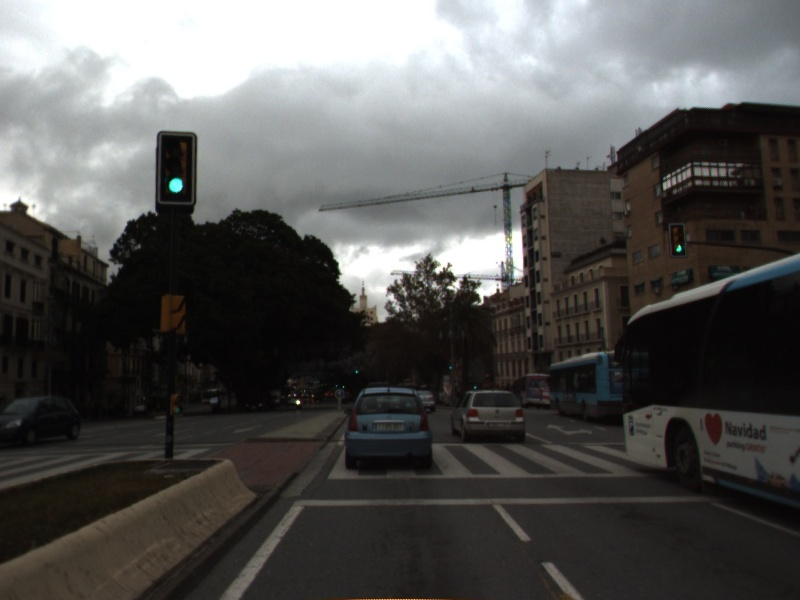STRAIGHT_RIGHT: (544, 421, 595, 438)
